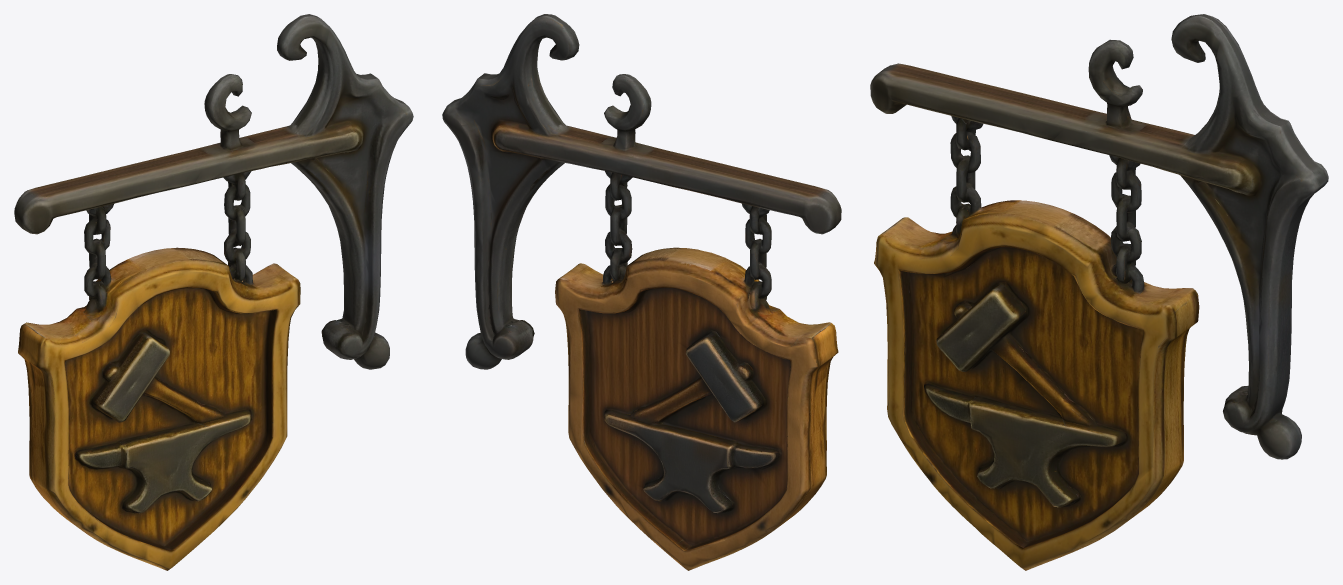
Rendered from obj_sign_smith.glb.
3 renders of one model, left to right at view 1: azimuth 30°, elevation 25°; view 2: azimuth 150°, elevation 25°; view 3: azimuth 330°, elevation 25°, orthographic. The views are drawn at different scales.
Visible parts, largest first — view 1: Mesh_0.010; view 2: Mesh_0.010; view 3: Mesh_0.010.
Part boxes in pixels (box(x1,y1,x2,y2)): Mesh_0.010: box(14, 14, 413, 570); Mesh_0.010: box(442, 14, 841, 570); Mesh_0.010: box(870, 14, 1328, 570).
Size of the model in its own units: 1.6 by 2 by 0.2259.
Materials: 1 (1 with a texture image).
